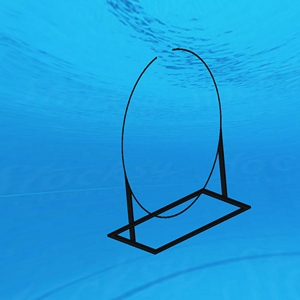circle: (105, 47, 254, 259)
